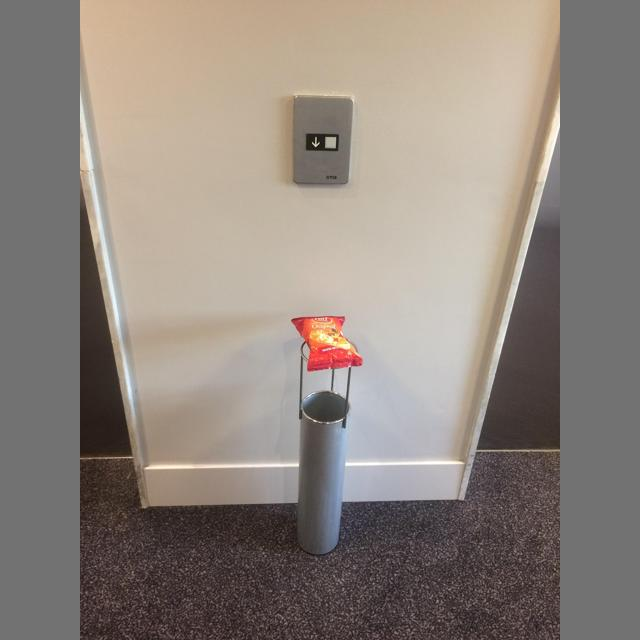litter: (291, 316, 363, 372)
